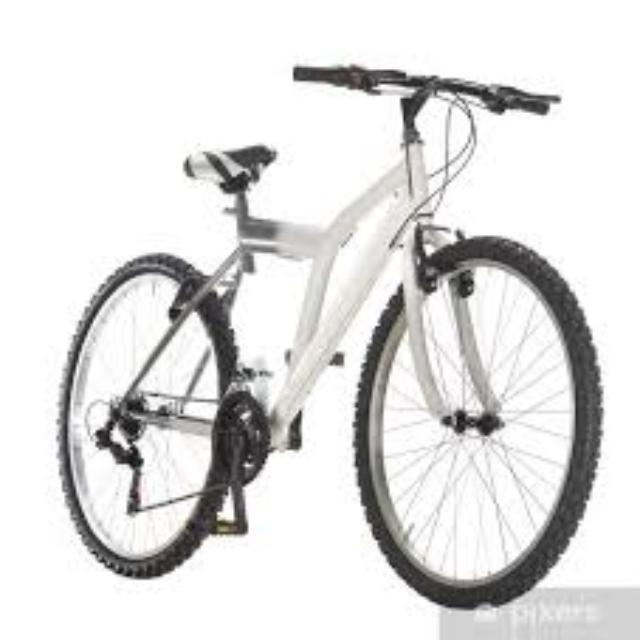obstacle: (57, 32, 595, 612)
